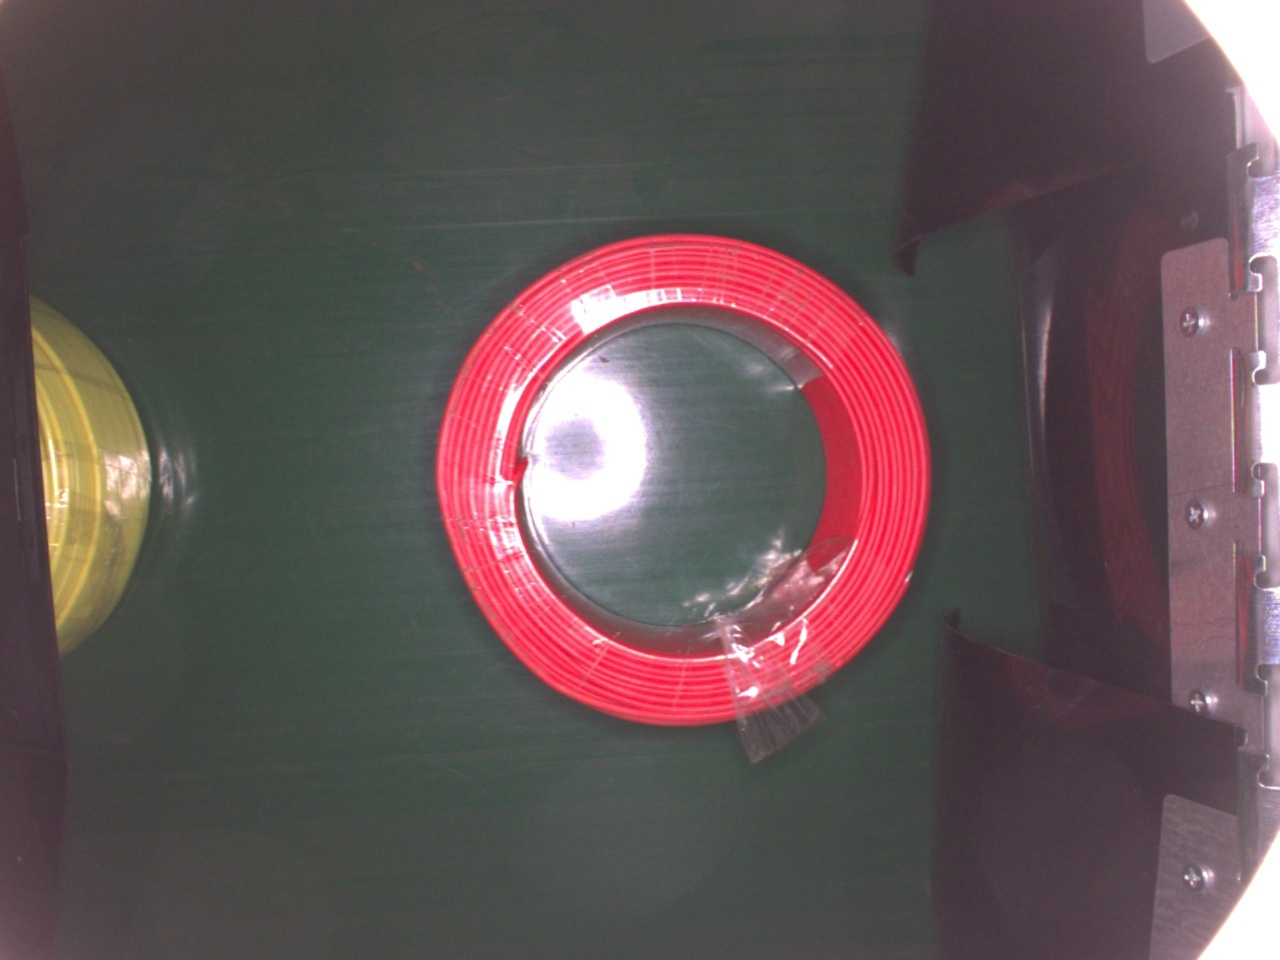red: (432, 225, 934, 733)
yellow: (24, 299, 162, 657)
